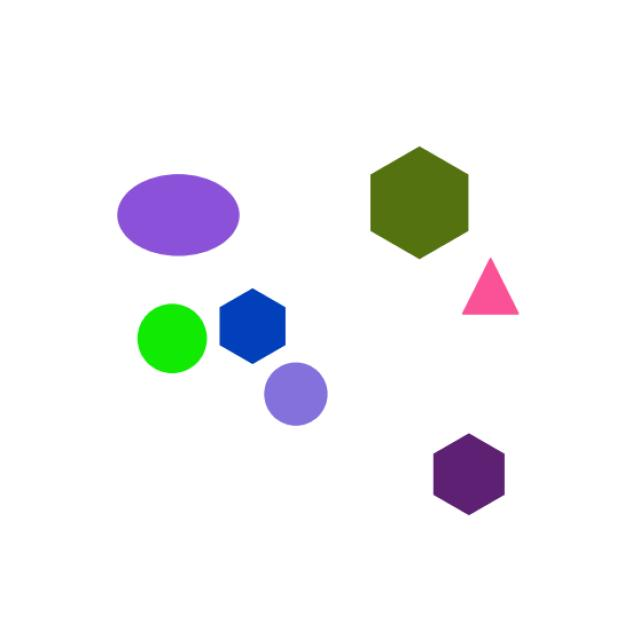Circle: (125, 299, 218, 384), (252, 346, 332, 434)
Hexagon: (344, 130, 478, 265), (413, 424, 536, 540), (211, 282, 294, 368)
Oval: (94, 157, 260, 269)
Triangle: (458, 255, 534, 326)
